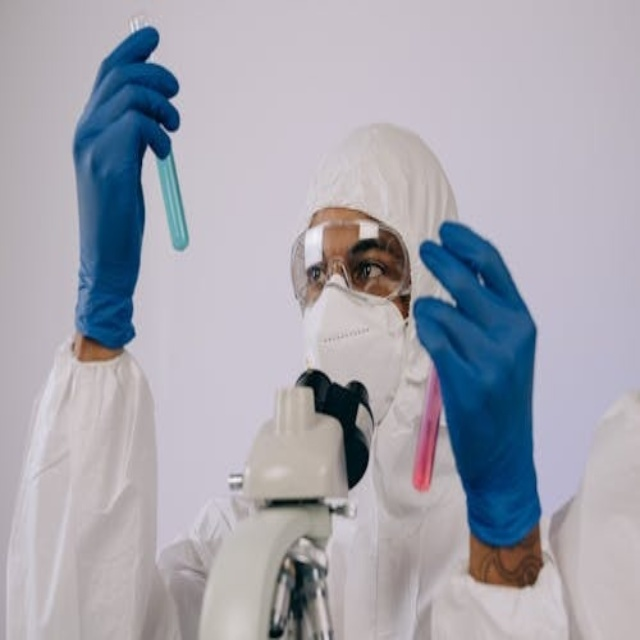Gafas: (290, 218, 414, 313)
Guantes: (413, 211, 549, 546), (65, 25, 179, 342)
Mascara: (300, 267, 410, 430)
